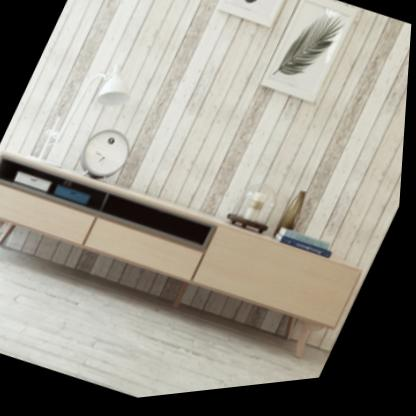TV stand: (0, 109, 381, 402)
